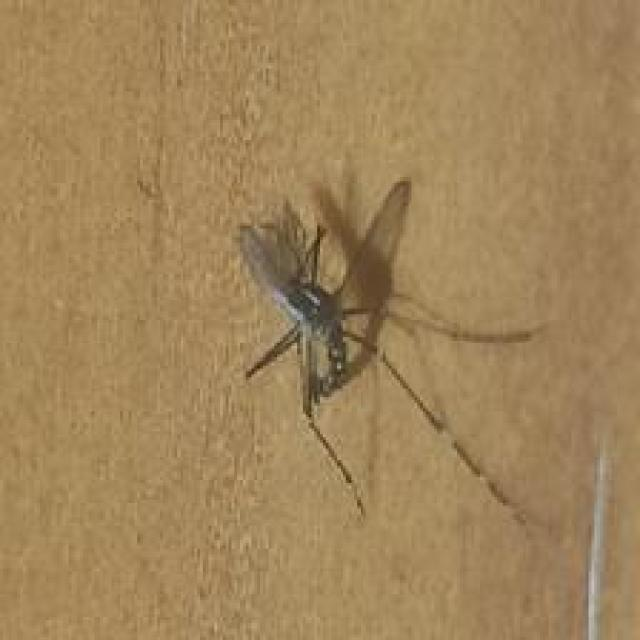Aedes albopictus: (234, 173, 557, 541)
